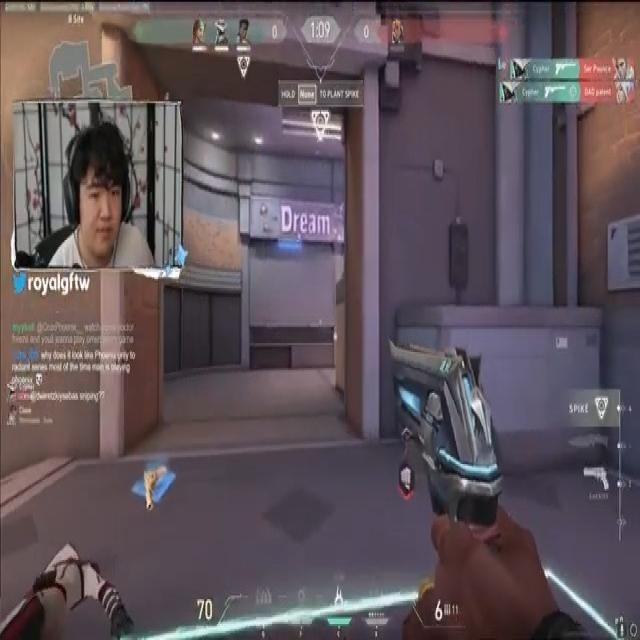gun: (139, 465, 172, 513)
